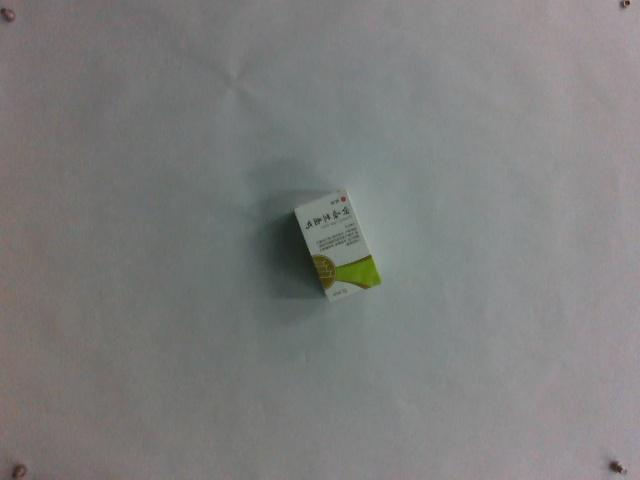carton: (289, 183, 383, 309)
